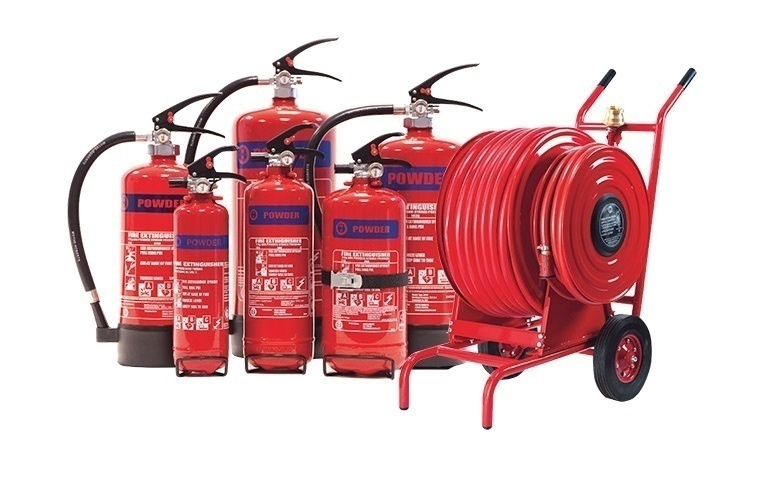fire_extinguisher: (304, 62, 484, 378), (183, 36, 342, 374), (67, 91, 232, 370)
